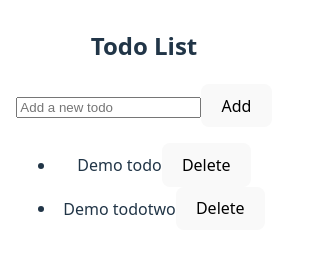
Test: adds a new todo
The image size is (320, 257).
In the field with placeholder "Add a new todo": (109, 107) [16,97,201,118], type "New Todo"
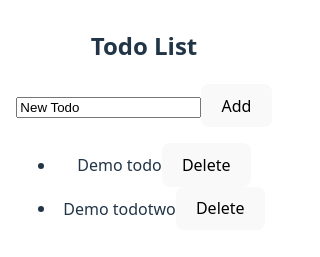
Click the button "Add": (237, 106) [201,84,272,127]
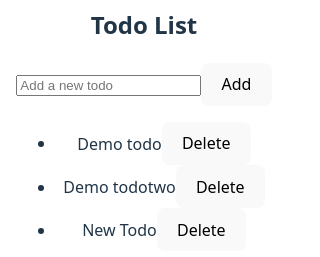
Check: the list item "New Todo" is shown, box [82,219,157,241]
